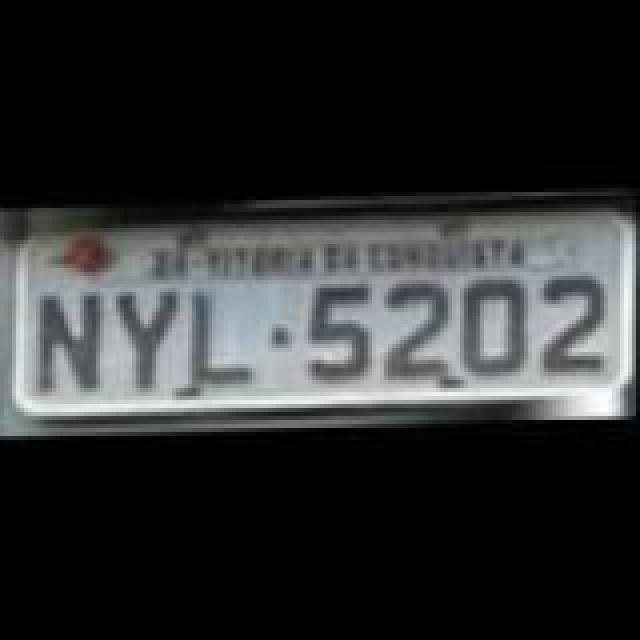2: (376, 284, 452, 380), (540, 278, 608, 382)
5: (308, 282, 376, 382)
L: (190, 290, 254, 394)
N: (36, 296, 104, 400)
O: (458, 278, 530, 382)
Y: (116, 290, 184, 394)
